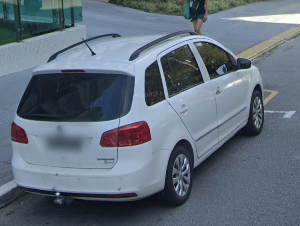car: (10, 32, 265, 205)
